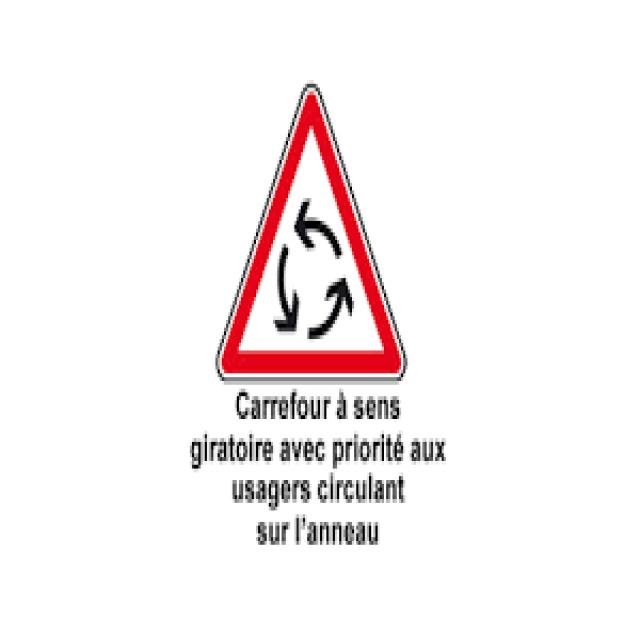SensGiratoire: (212, 80, 414, 385)
